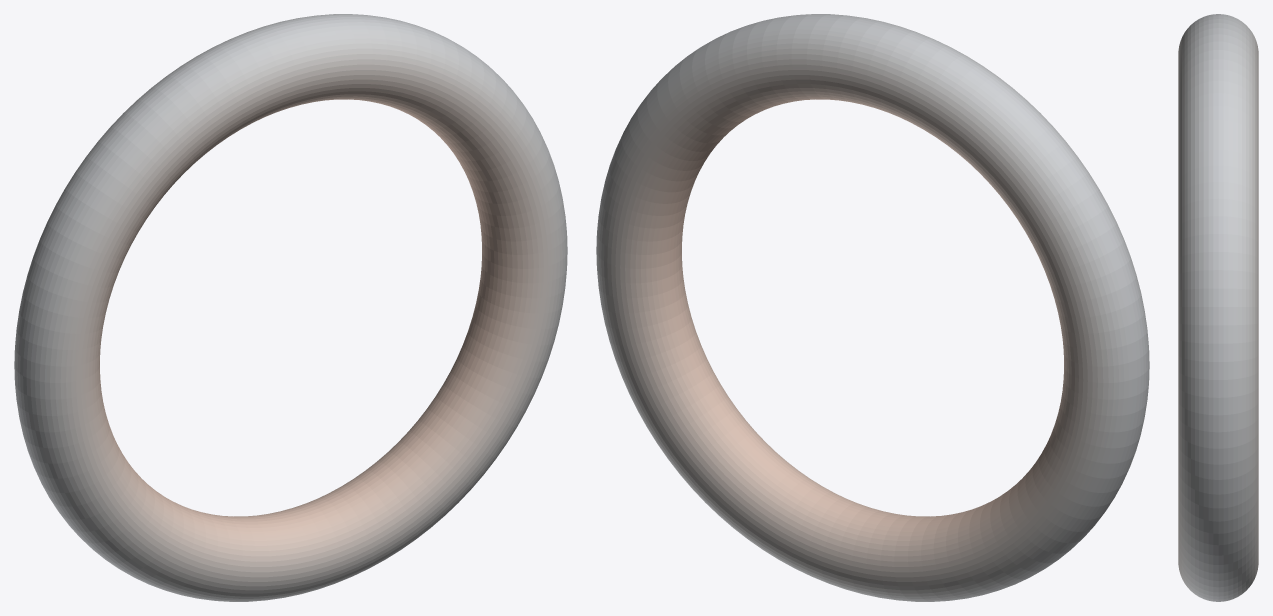
3 views of the same model, side by side, from view 1: azimuth 30°, elevation 25°; view 2: azimuth 150°, elevation 25°; view 3: azimuth 270°, elevation 25° (orthographic). The views are drawn at different scales.
Parts seen in each view (by area): view 1: world; view 2: world; view 3: world.
Part boxes in pixels (left/top/right/bottom): world: left=14, top=14, right=567, bottom=601; world: left=596, top=14, right=1149, bottom=601; world: left=1178, top=14, right=1258, bottom=601.
Size of the model in its own units: 18.53 by 18.53 by 2.53.
